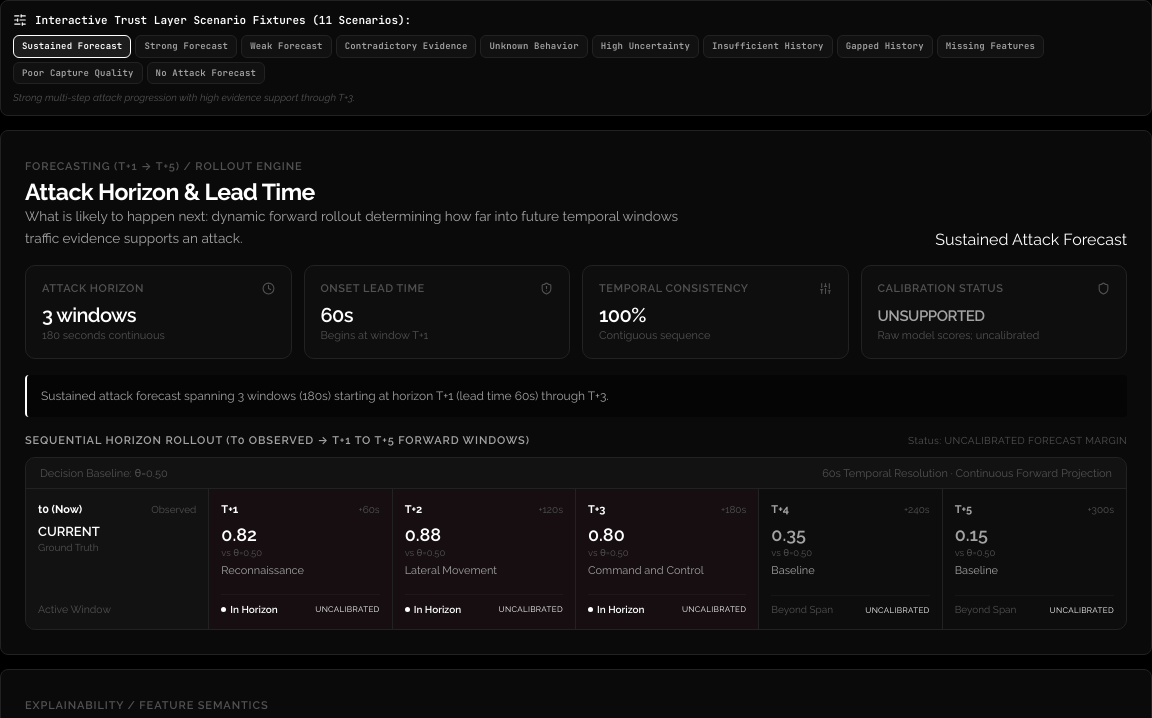
Test: Forecast Trust Layer Components › ForecastTrustPanel switches between all 11 scenario fixtures seamlessly
Expected: the text "Strong multi-step attack progression" is shown, [13, 92, 355, 103]
Expected: the text "Sustained Attack Forecast" is shown, [935, 230, 1127, 249]
Switch to Contradictory Evidence
Click the button "Contradictory Evidence" at (406, 46), box [336, 35, 476, 58]
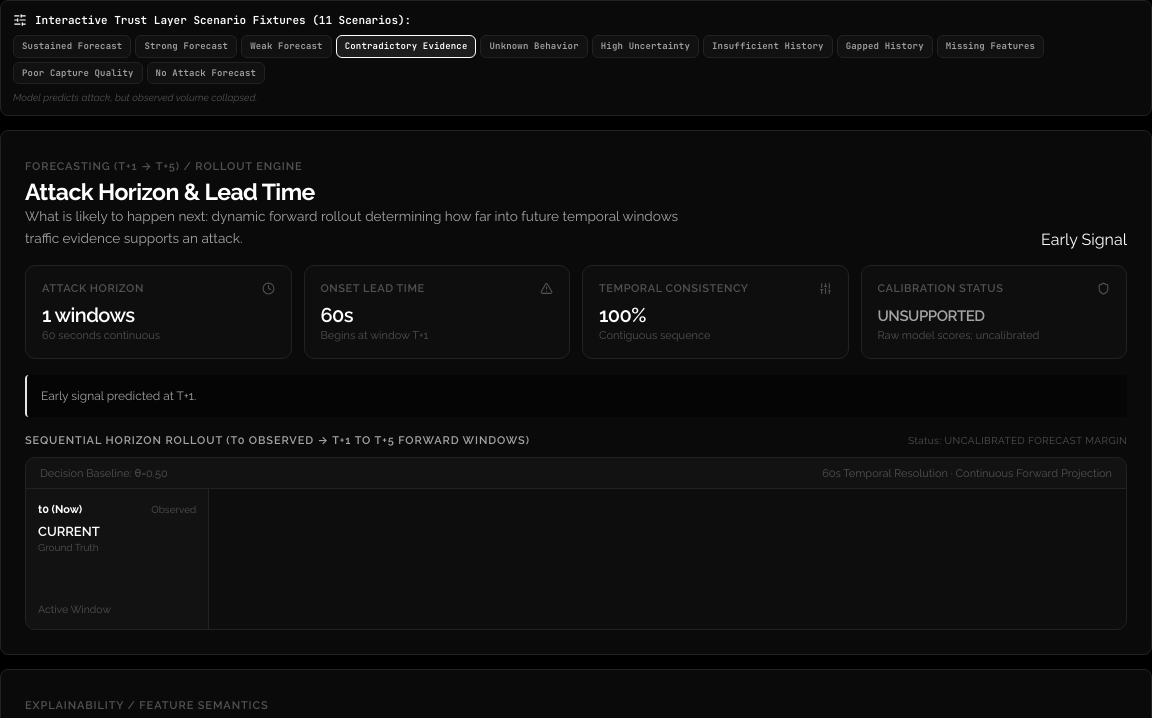
Expected: the text "Model predicts attack, but observed volume collapsed." is shown, [13, 92, 257, 103]
Switch to Unknown Behavior
Click the button "Unknown Behavior" at (534, 46), box [480, 35, 588, 58]
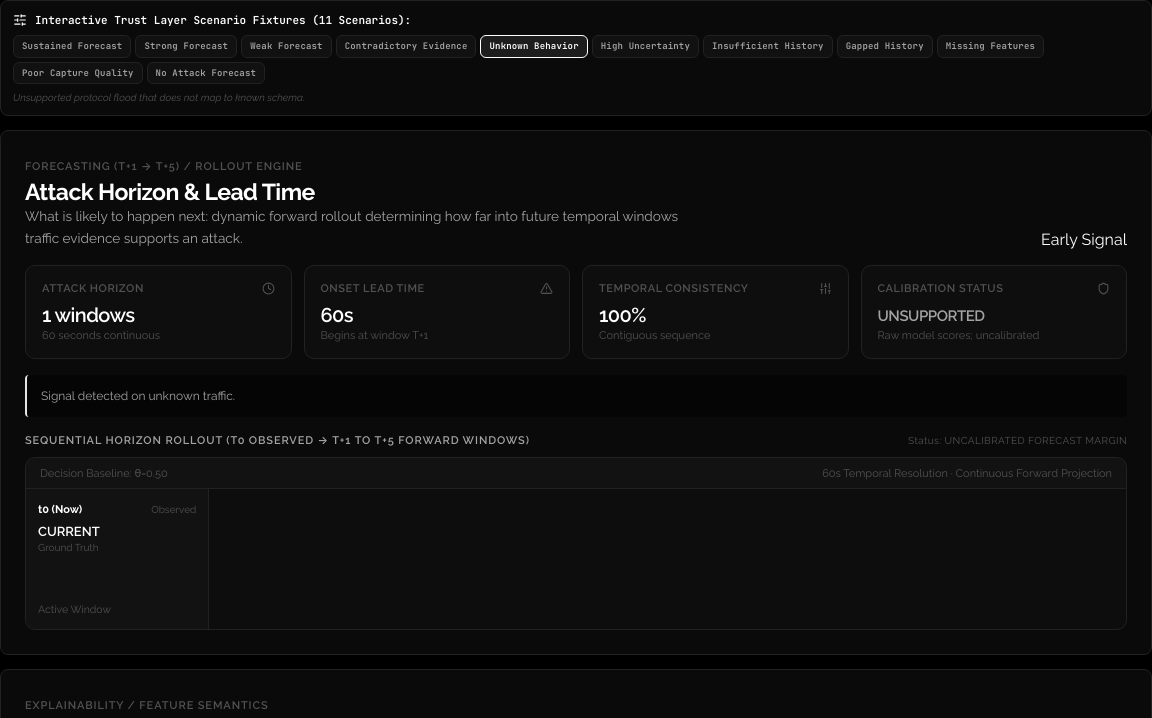
Expected: the text "Unsupported protocol flood" is shown, [13, 92, 305, 103]
Switch to Insufficient History
Click the button "Insufficient History" at (768, 46), box [703, 35, 833, 58]
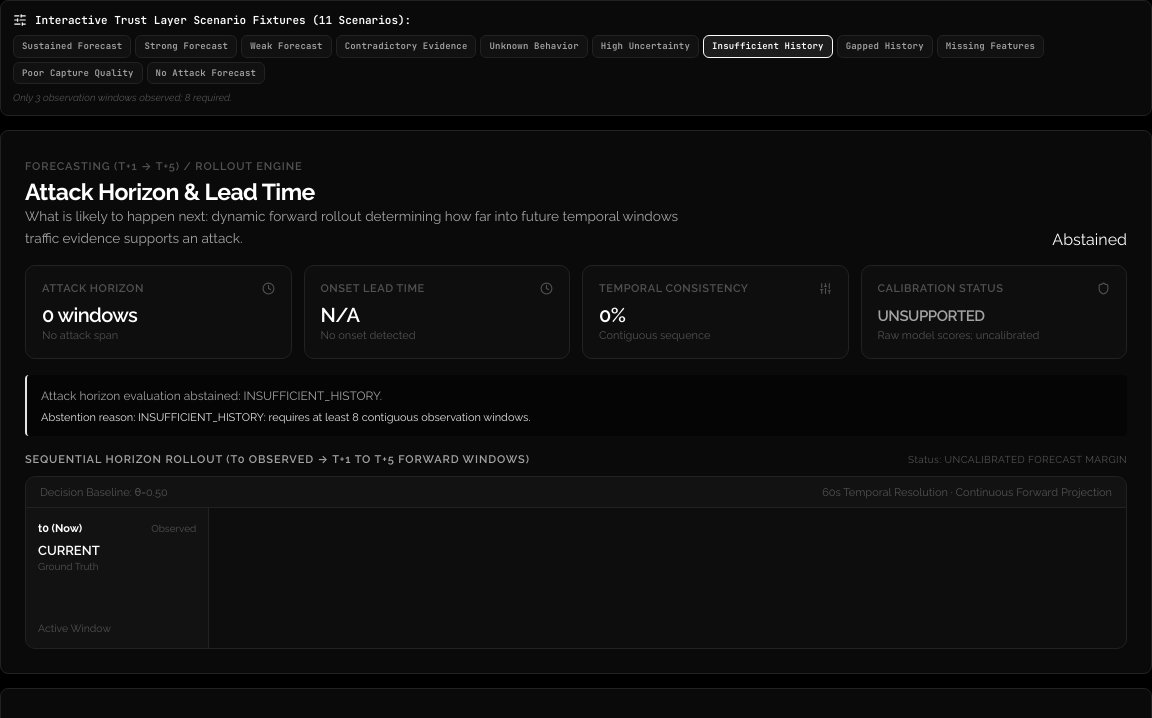
Expected: the text "Only 3 observation windows observed; 8 required." is shown, [13, 92, 232, 103]
Switch to No Attack Forecast
Click the button "No Attack Forecast" at (206, 73), box [147, 62, 265, 84]
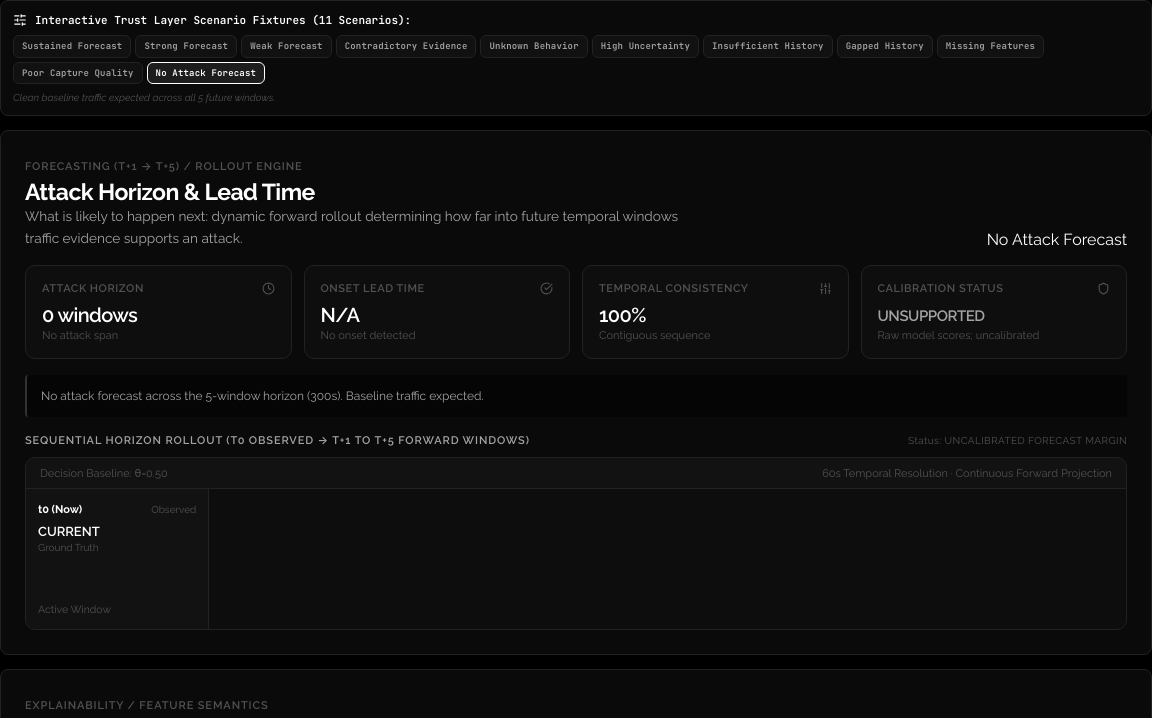
Expected: the text "Clean baseline traffic expected across all 5 future windows." is shown, [13, 92, 275, 103]
